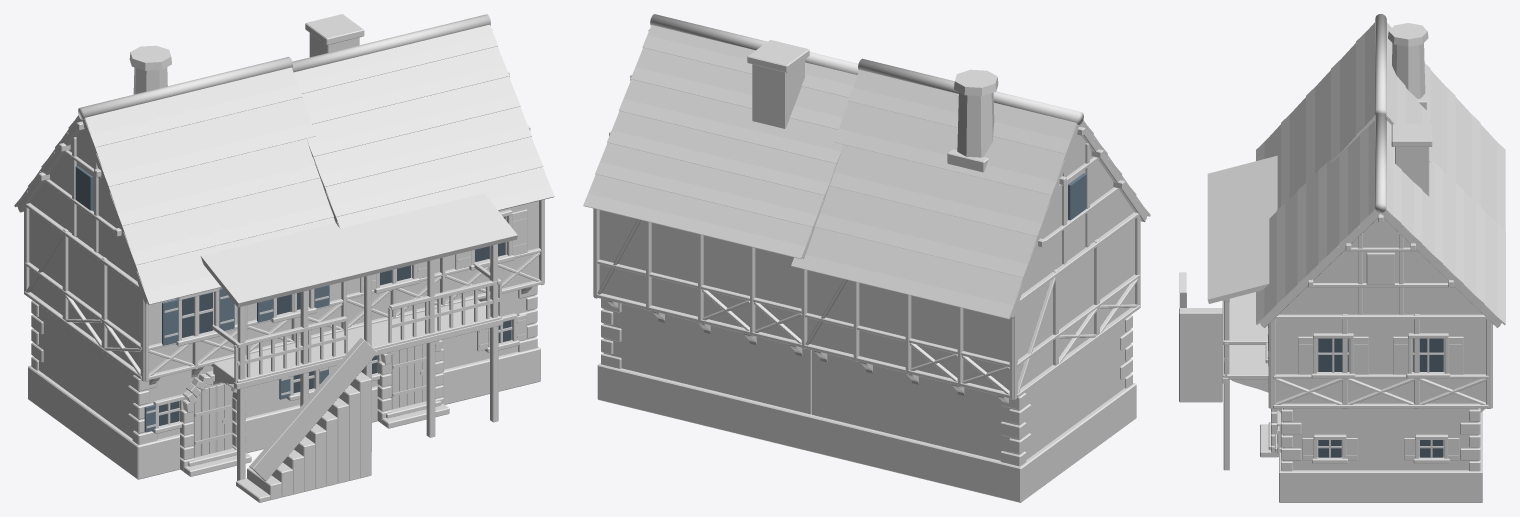
The model's file is col_16_collees_escalier_pierre.fbx.
The picture shows the model from 3 angles, left to right: view 1: azimuth 30°, elevation 25°; view 2: azimuth 150°, elevation 25°; view 3: azimuth 270°, elevation 25°; orthographic projection. The views are drawn at different scales.
Parts seen in each view (by area): view 1: col_16_collees_escalier_pierre_LOD0; view 2: col_16_collees_escalier_pierre_LOD0; view 3: col_16_collees_escalier_pierre_LOD0.
Part boxes in pixels (x1=…): col_16_collees_escalier_pierre_LOD0: x1=14, y1=14, x2=554, y2=502; col_16_collees_escalier_pierre_LOD0: x1=583, y1=14, x2=1150, y2=502; col_16_collees_escalier_pierre_LOD0: x1=1179, y1=14, x2=1505, y2=502.
Size of what is drawn, in the model's own units: 11.28 by 9.25 by 8.36.
